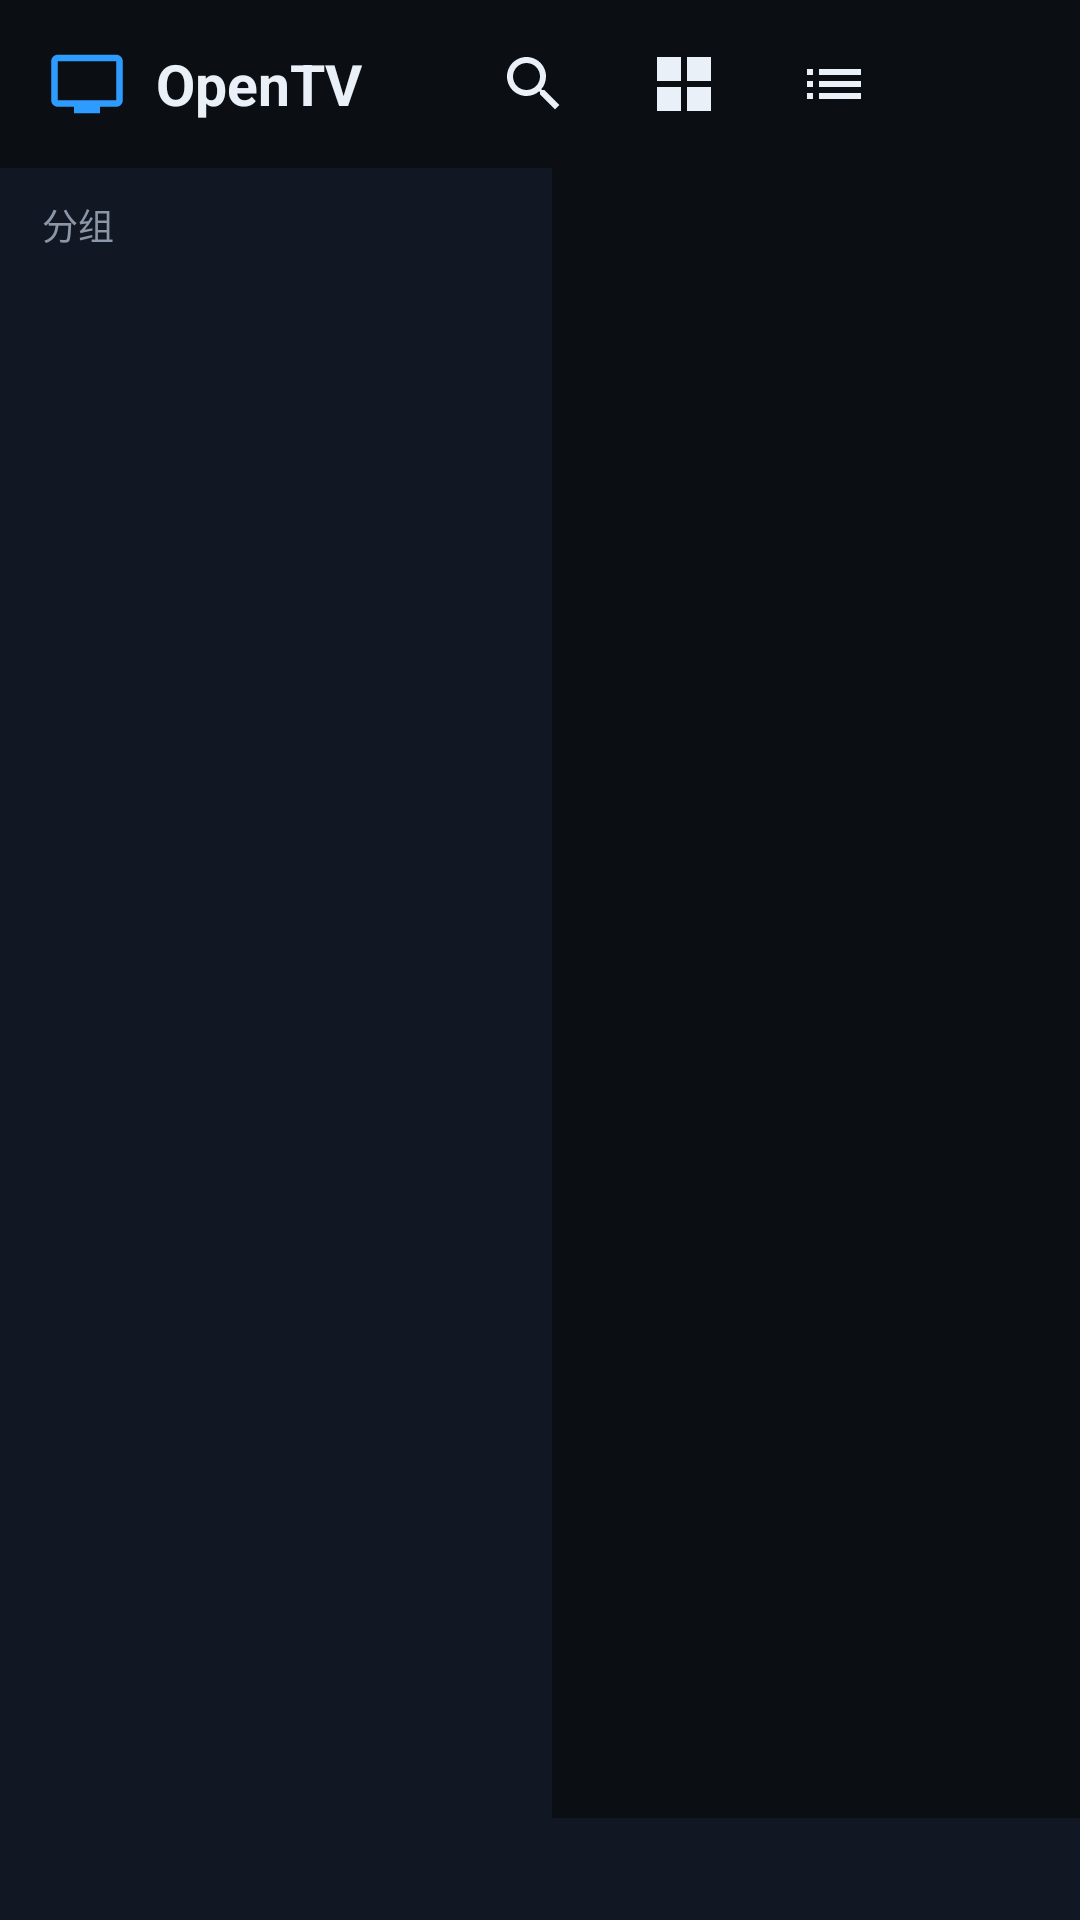

Point at icon controls on the screen. Image size 1080px x 1920px, points as (x,y).
搜索: (533,83)
播放列表: (834,84)
